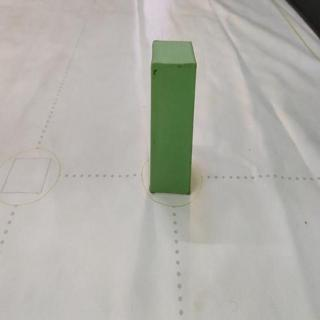greenbox: (148, 37, 198, 196)
